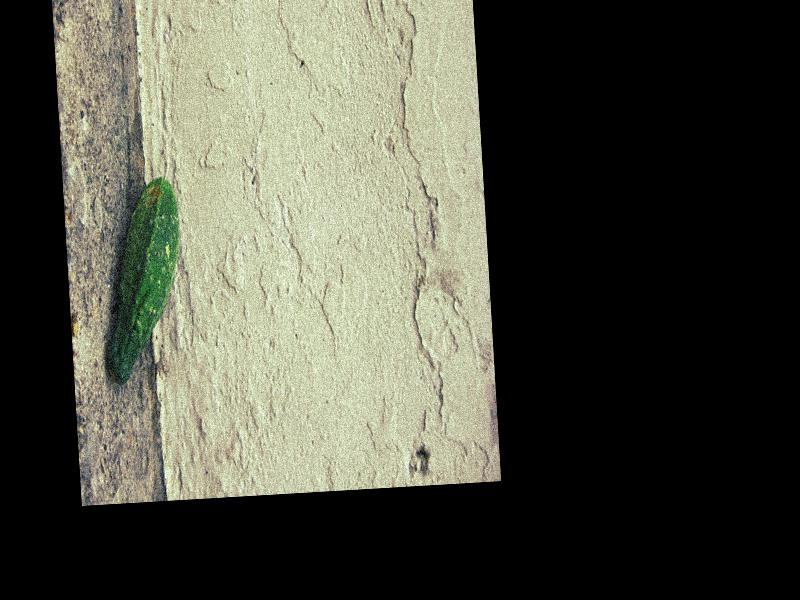Cucumber: (97, 176, 188, 382)
